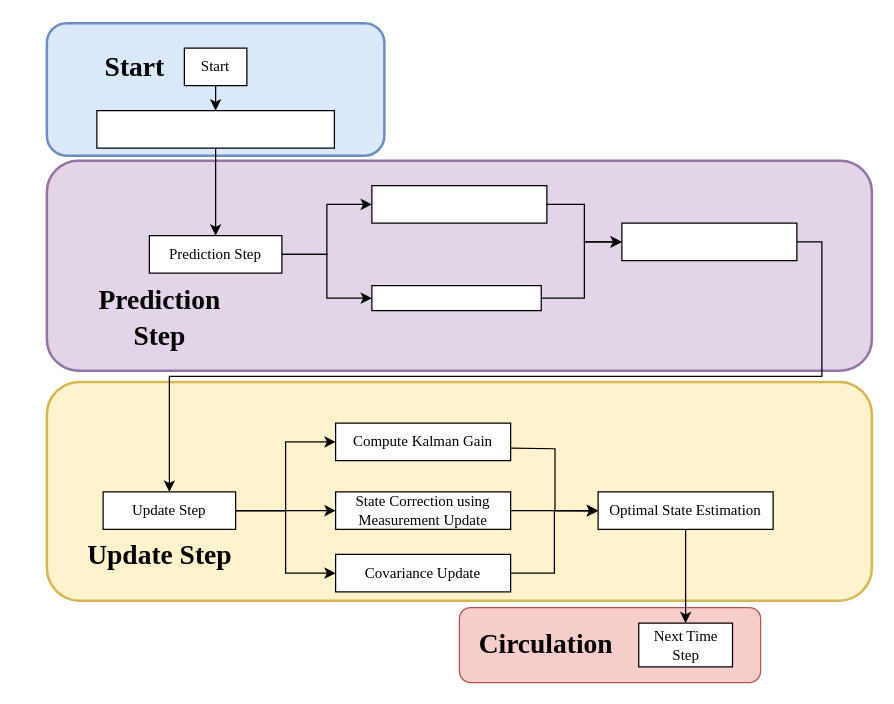
The diagram is 894 pixels wide and 704 high, and some of its shapes have lost their labels. Each missing label, with the centre of its shape:
"Covariance Prediction" belongs at (x=456, y=297).
"Initialize State X₀ and Covariance P₀" belongs at (x=215, y=128).
"Receive Sensor Measurements" belongs at (x=709, y=241).
"State Prediction using Motion Model" belongs at (x=459, y=203).
